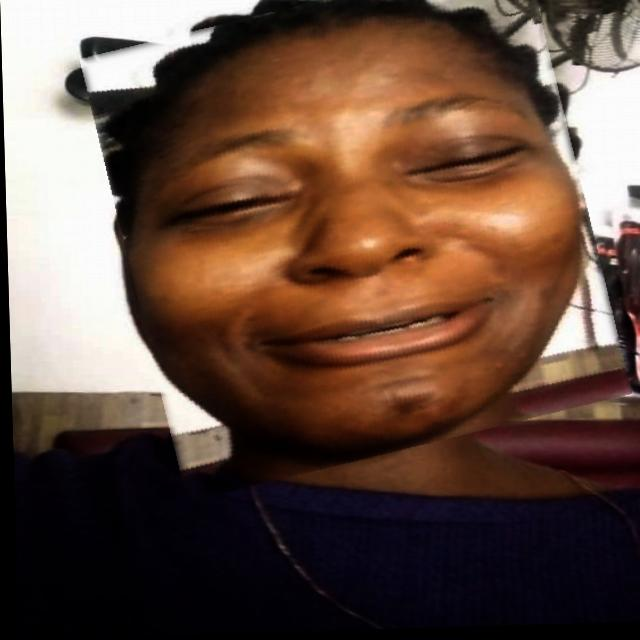sad: (99, 0, 609, 483)
